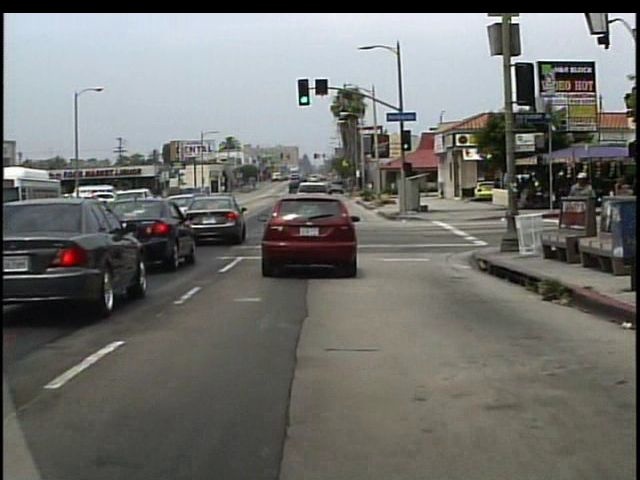person: (565, 168, 600, 254), (491, 176, 503, 207)
